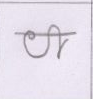i_matra: (50, 24, 66, 57)
